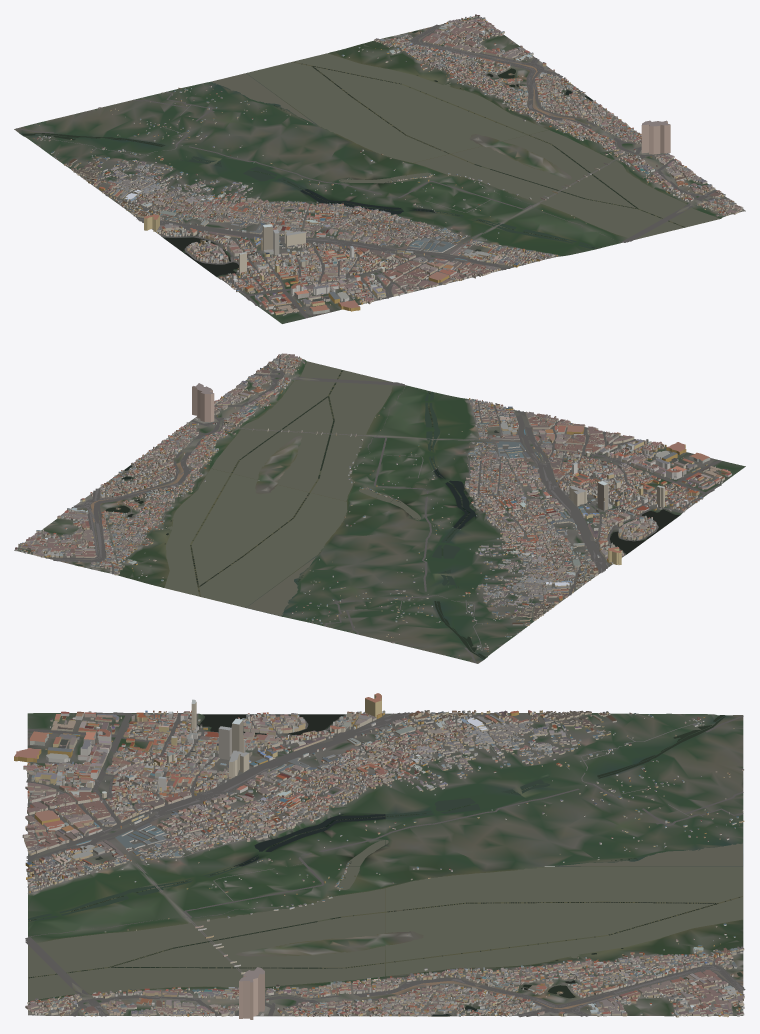
3 views of the same model, one above another, from view 1: azimuth 30°, elevation 25°; view 2: azimuth 150°, elevation 25°; view 3: azimuth 270°, elevation 25° (orthographic). The views are drawn at different scales.
Parts seen in each view (by area): view 1: ground, buildings, water, roads; view 2: ground, buildings, water, roads; view 3: ground, buildings, water, roads.
Boxes of the visible parts, x1,y1,x2,y2 form: ground: (14, 16, 745, 323); buildings: (33, 14, 743, 315); water: (21, 30, 719, 276); roads: (16, 23, 743, 318); ground: (14, 353, 745, 663); buildings: (15, 353, 731, 655); water: (75, 361, 679, 658); roads: (45, 354, 721, 663); ground: (27, 713, 743, 1016); buildings: (14, 693, 744, 1019); water: (28, 714, 742, 1016); roads: (25, 712, 745, 1017).
Size of the model in its own units: 2876 by 171 by 2869.
